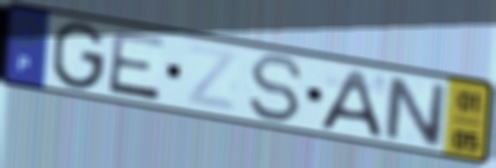A: (315, 67, 385, 140)
E: (105, 28, 168, 104)
G: (49, 20, 109, 93)
N: (383, 72, 448, 151)
S: (246, 51, 307, 126)
Z: (183, 41, 241, 115)
